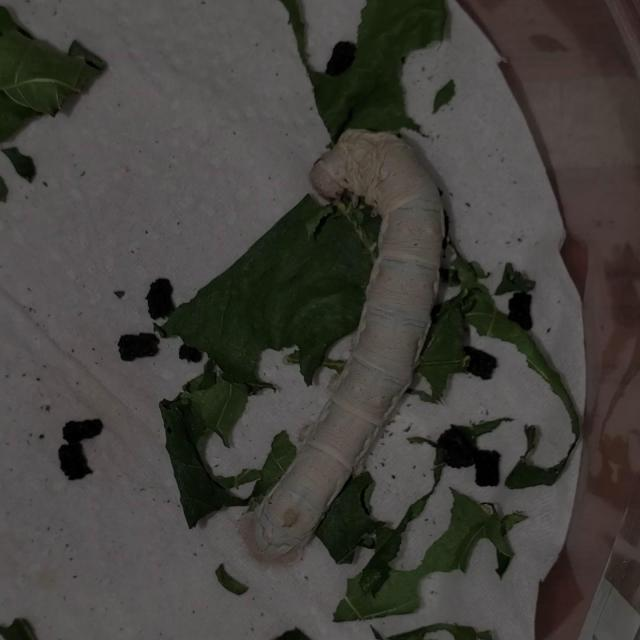Healthy: (220, 98, 454, 597)
